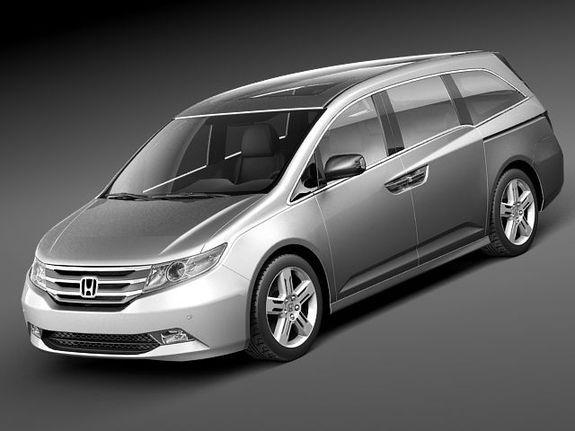car: (20, 49, 568, 374)
